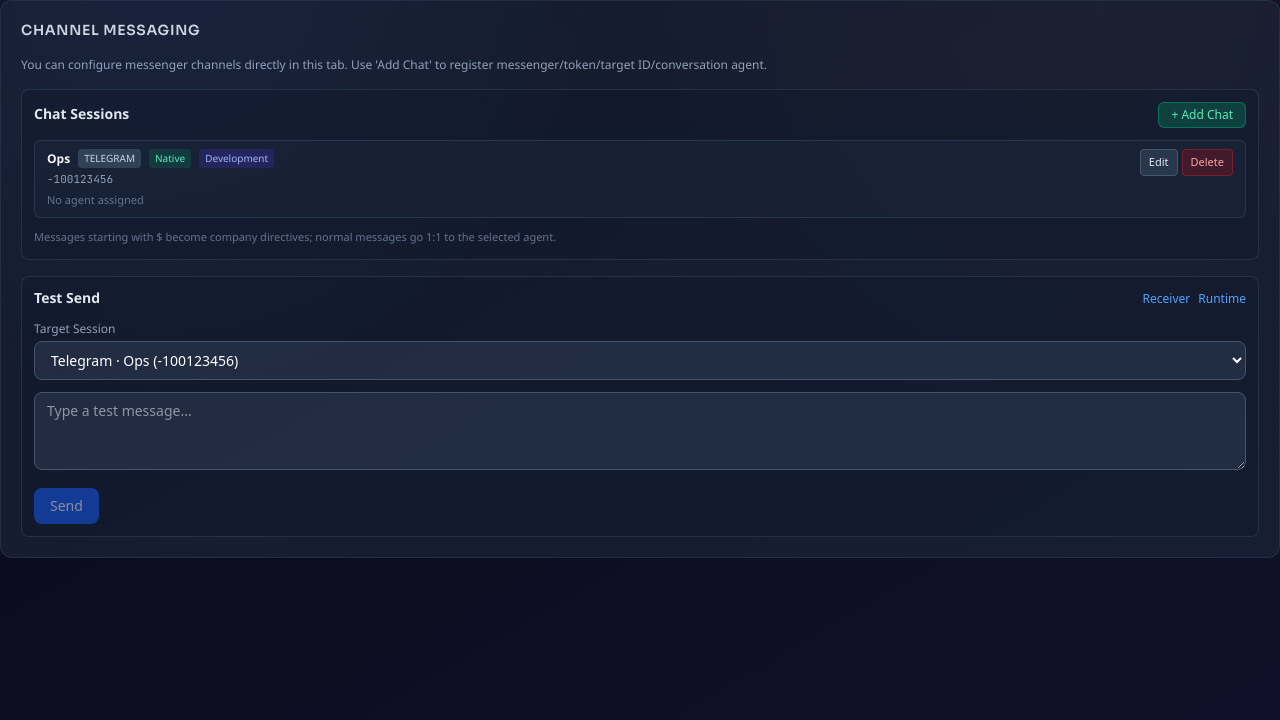
GatewaySettingsTab characterization › sends runtime message with selected sessionKey and clears input on success
Type "  hello from test  " into the text box with placeholder "Type a test message..." at (640, 430), box [34, 392, 1246, 470]
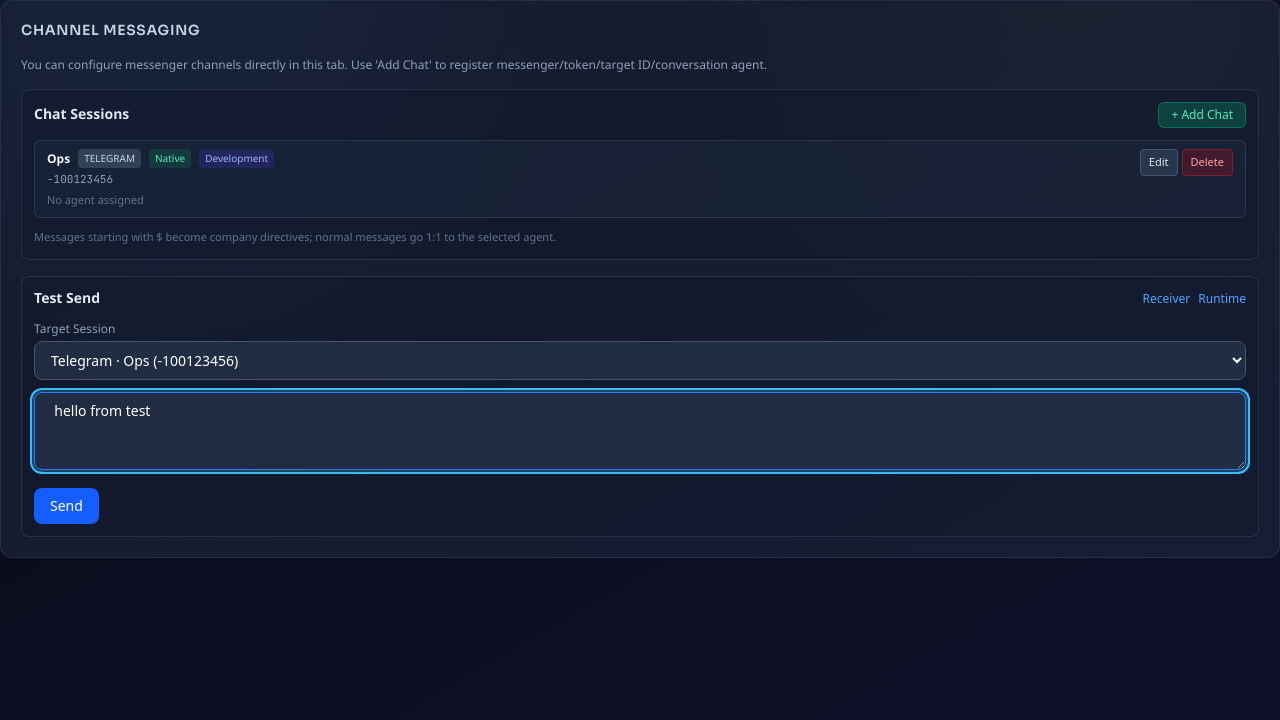
Click the button "Send" at (66, 506), box [34, 488, 99, 524]
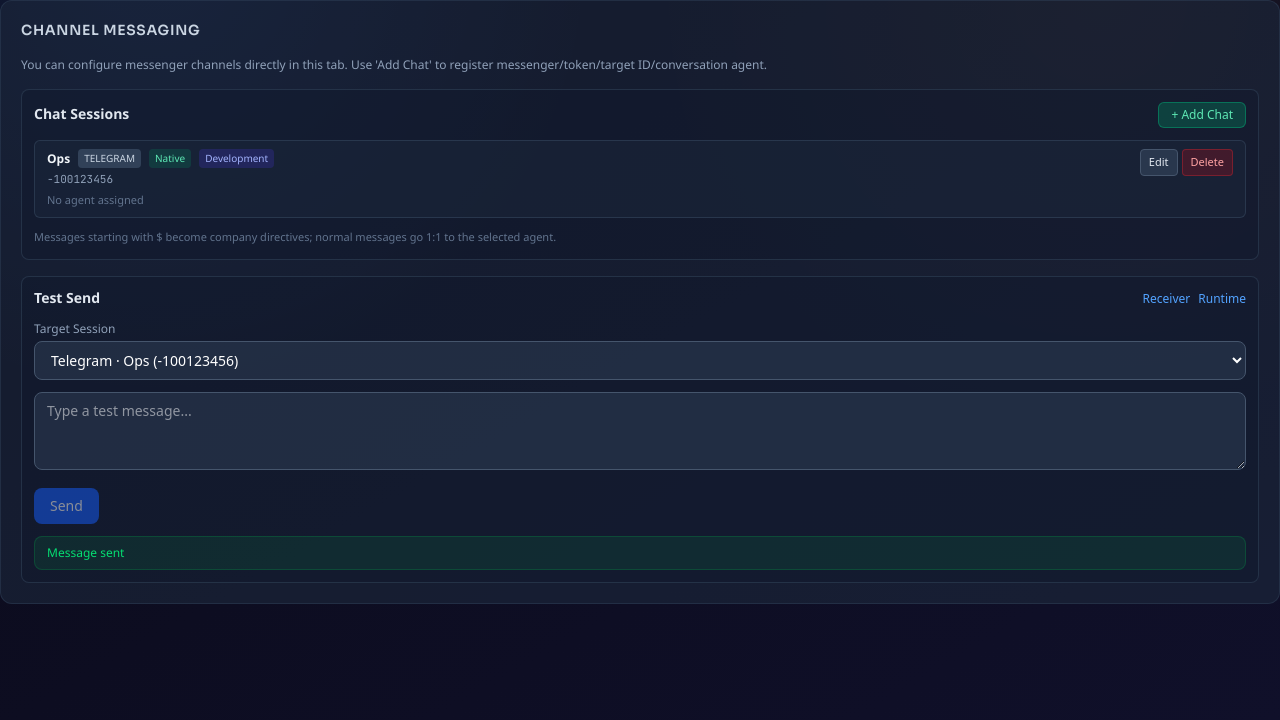
expect the text box with placeholder "Type a test message..." is empty: met, box [34, 392, 1246, 470]
expect the text "Message sent" is shown: met, box [34, 536, 1246, 570]
